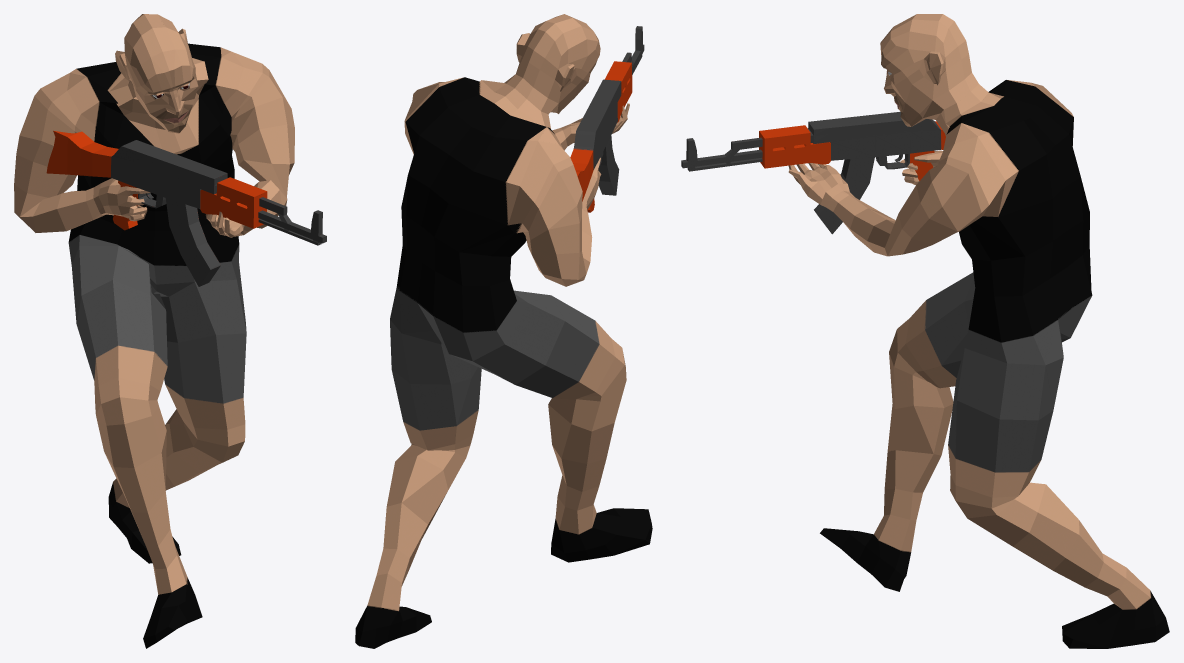
File: PlayerWalk(19).obj
3 renders of one model, left to right at view 1: azimuth 30°, elevation 25°; view 2: azimuth 150°, elevation 25°; view 3: azimuth 270°, elevation 25°, orthographic. The views are drawn at different scales.
Visible parts, largest first — view 1: Plane002, Object001; view 2: Plane002, Object001; view 3: Plane002, Object001.
Boxes of the visible parts, box(x1,y1,x2,y2) form: Plane002: box(14, 14, 294, 648); Object001: box(46, 130, 326, 286); Plane002: box(355, 14, 652, 648); Object001: box(570, 26, 644, 212); Plane002: box(788, 14, 1169, 648); Object001: box(681, 111, 945, 234).
Size of the model in its own units: 600 by 1559 by 1177.
